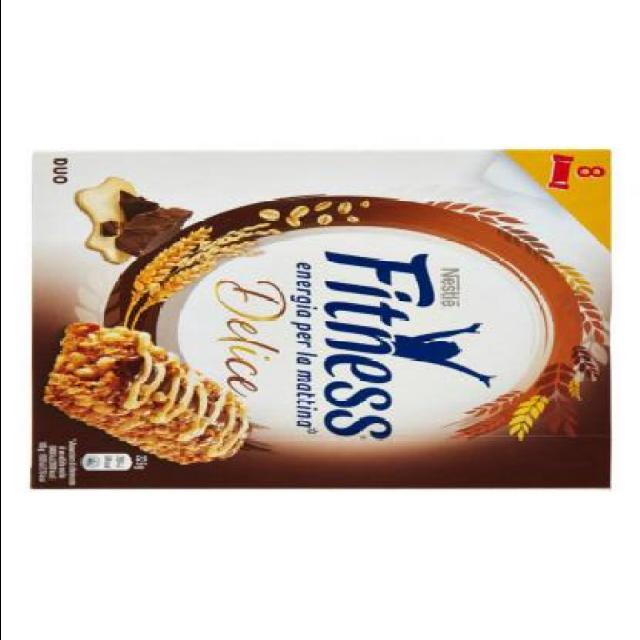Cereal bar: (21, 142, 622, 493)
